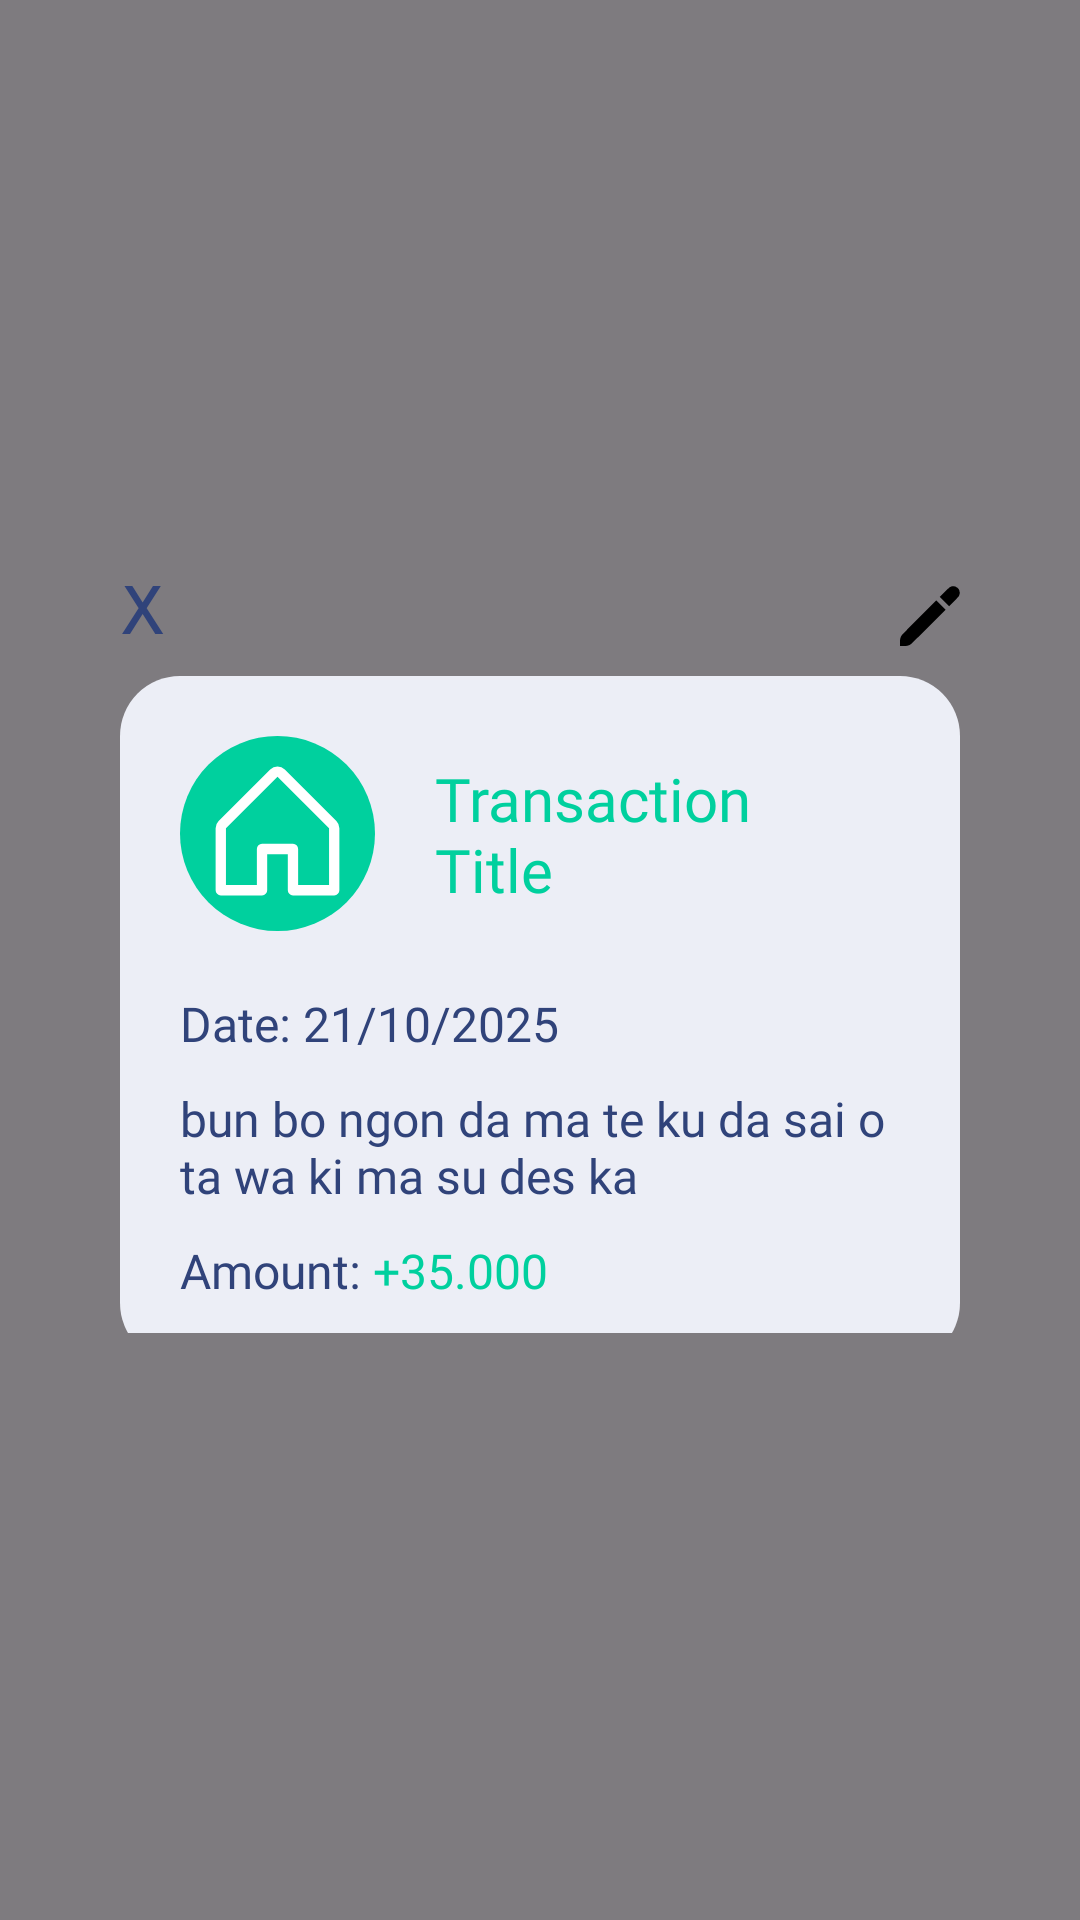

Where to tap for icons on this 1080 × 1920 app screen, as (x,y):
house: (277,833)
pen: (930,616)
